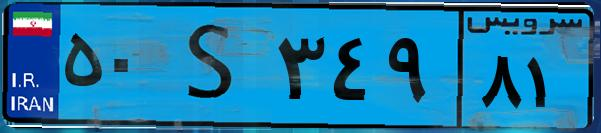0: (110, 28, 158, 98)
1: (525, 38, 570, 115)
3: (270, 28, 330, 110)
4: (330, 28, 385, 110)
5: (57, 26, 110, 100)
8: (475, 38, 525, 113)
9: (385, 28, 445, 110)
S: (158, 12, 270, 120)
